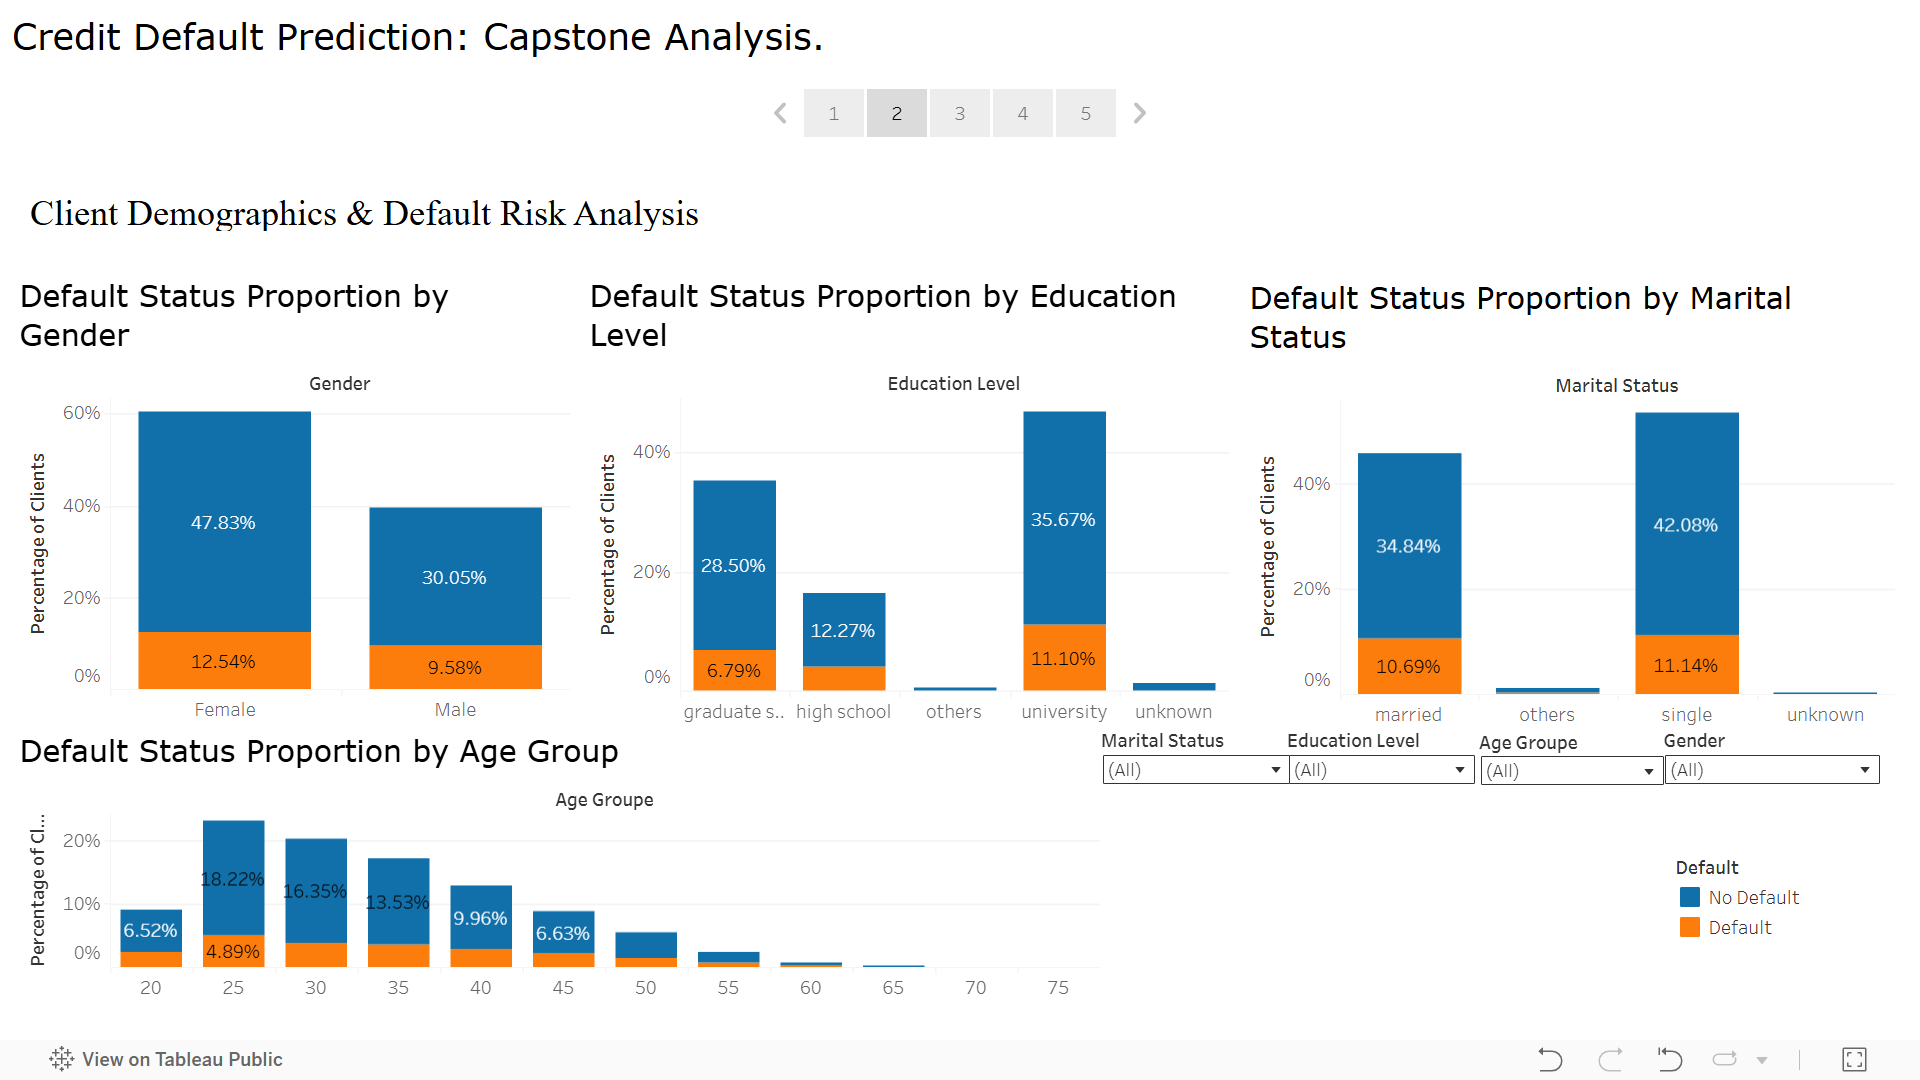

This screenshot's page, from the dashboard's own definition file:
{"tool":"tableau","page":{"name":"Dashboard 2: Demographics & Default Risk","canvas":[1000,1000],"units":"permille","ordinal":0},"visuals":[{"type":"title","box":[5,10.7,989.9,72.4]},{"type":"worksheet","title":"2.1 Default Rate by Gender","mark":"Automatic","rows":["Calculation_657525579428110336"],"cols":["sex"],"box":[0.6,105.9,293.6,534.9]},{"type":"worksheet","title":"2.2 Default Status Proportion by Education","mark":"Automatic","rows":["Calculation_657525579428110336"],"cols":["education"],"box":[301.1,105.9,340.4,536.2]},{"type":"worksheet","title":"2.3 Default Status Proportion by Marriage","mark":"Automatic","rows":["Calculation_657525579428110336"],"cols":["marriage"],"box":[649.6,107.2,342.9,538.9]},{"type":"worksheet","title":"2.4 Age Distribution by Default","mark":"Automatic","rows":["Calculation_657525579428110336"],"cols":["Age (bin)"],"box":[0.6,640.8,572.9,325.7]},{"type":"filter","title":"2.4 Age Distribution by Default","param":"[federated.1dpyn1n11wrag61cv97z41ppz48c].[none:marriage:nk]","box":[574.1,646.1,101,112.6]},{"type":"filter","title":"2.4 Age Distribution by Default","param":"[federated.1dpyn1n11wrag61cv97z41ppz48c].[none:education:nk]","box":[672.7,646.1,99.8,257.4]},{"type":"filter","title":"2.4 Age Distribution by Default","param":"[federated.1dpyn1n11wrag61cv97z41ppz48c].[none:sex:nk]","box":[871.3,646.1,114.2,104.6]},{"type":"filter","title":"2.2 Default Status Proportion by Education","param":"[federated.1dpyn1n11wrag61cv97z41ppz48c].[none:Age (bin):ok]","box":[773.5,647.5,98.4,148.8]},{"type":"legend","title":"2.1 Default Rate by Gender","param":"[federated.1dpyn1n11wrag61cv97z41ppz48c].[none:default:ok]","box":[877.6,796.2,111,140.8]}]}

Visuals, with their boxes on the dashboard's canvas, which has no fixed pixel size, in thousandths of its width and height (x1, y1, x2, y2). These are canvas units, not pixel positions in the 1920x1080 screenshot, which may show the page scaled, cropped or inside an application window:
title: [left=5, top=11, right=995, bottom=83]
"2.1 Default Rate by Gender" worksheet: [left=1, top=106, right=294, bottom=641]
"2.2 Default Status Proportion by Education" worksheet: [left=301, top=106, right=642, bottom=642]
"2.3 Default Status Proportion by Marriage" worksheet: [left=650, top=107, right=992, bottom=646]
"2.4 Age Distribution by Default" worksheet: [left=1, top=641, right=574, bottom=966]
"2.4 Age Distribution by Default" filter: [left=574, top=646, right=675, bottom=759]
"2.4 Age Distribution by Default" filter: [left=673, top=646, right=772, bottom=904]
"2.4 Age Distribution by Default" filter: [left=871, top=646, right=986, bottom=751]
"2.2 Default Status Proportion by Education" filter: [left=774, top=648, right=872, bottom=796]
"2.1 Default Rate by Gender" legend: [left=878, top=796, right=989, bottom=937]
